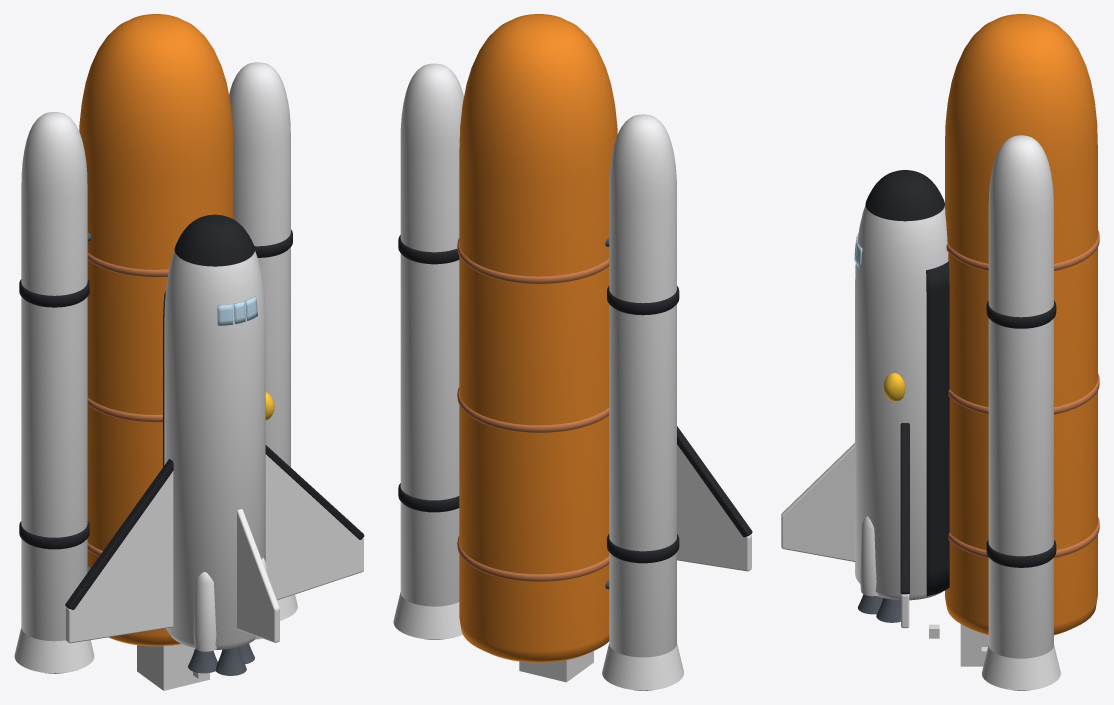
Rendered from Shuttle.fbx.
3 renders of one model, left to right at view 1: azimuth 30°, elevation 25°; view 2: azimuth 150°, elevation 25°; view 3: azimuth 270°, elevation 25°, orthographic. The views are drawn at different scales.
Parts seen in each view (by area): view 1: Stack__White, Stack__Orange, Stack__Black, Origin__Pivot, Stack__MetalDark, Stack__Copper, Stack__Glass; view 2: Stack__Orange, Stack__White, Stack__Black, Stack__Copper, Origin__Pivot; view 3: Stack__White, Stack__Orange, Stack__Black, Stack__Copper, Origin__Pivot, Stack__MetalDark, Stack__Gold.
Part boxes in pixels (<box>): Stack__White: <box>14,62,363,673</box>; Stack__Orange: <box>79,14,233,646</box>; Stack__Black: <box>19,214,364,609</box>; Origin__Pivot: <box>137,644,209,690</box>; Stack__MetalDark: <box>45,232,254,675</box>; Stack__Copper: <box>87,252,168,556</box>; Stack__Glass: <box>217,296,257,325</box>; Stack__Orange: <box>459,14,617,662</box>; Stack__White: <box>393,63,751,690</box>; Stack__Black: <box>398,235,752,563</box>; Stack__Copper: <box>457,238,609,581</box>; Origin__Pivot: <box>519,651,593,682</box>; Stack__White: <box>781,135,1060,690</box>; Stack__Orange: <box>945,14,1097,635</box>; Stack__Black: <box>865,170,1056,596</box>; Stack__Copper: <box>946,230,1099,557</box>; Origin__Pivot: <box>960,624,988,666</box>; Stack__MetalDark: <box>858,594,1030,690</box>; Stack__Gold: <box>883,372,905,401</box>.
Size of the model in its own units: 6.41 by 13.25 by 6.04.
